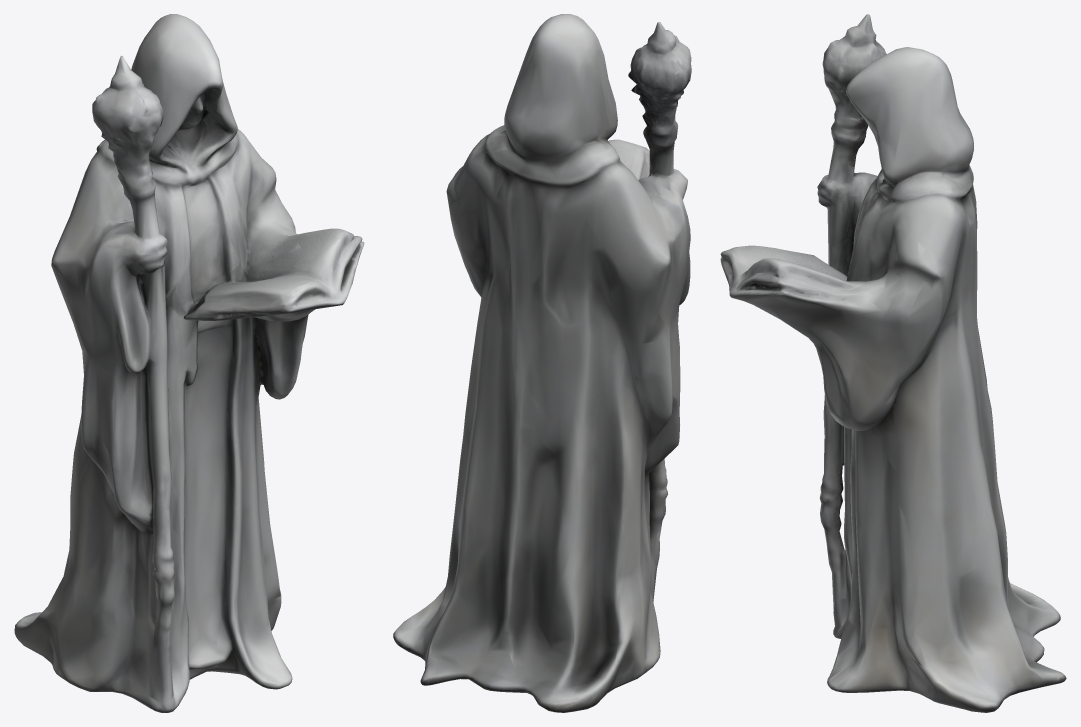
File: Bishop.fbx
3 renders of one model, left to right at view 1: azimuth 30°, elevation 25°; view 2: azimuth 150°, elevation 25°; view 3: azimuth 270°, elevation 25°, orthographic. The views are drawn at different scales.
Parts seen in each view (by area): view 1: Mesh_0; view 2: Mesh_0; view 3: Mesh_0.
Boxes of the visible parts, x1=… form: Mesh_0: x1=14, y1=14, x2=364, y2=712; Mesh_0: x1=393, y1=14, x2=691, y2=712; Mesh_0: x1=720, y1=14, x2=1066, y2=712.
Bounding box in the file's own units: 80.74 × 200 × 103.
Materials: 1 (1 with a texture image).
